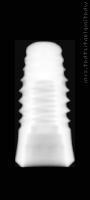Cowellmedi: (15, 40, 75, 167)
